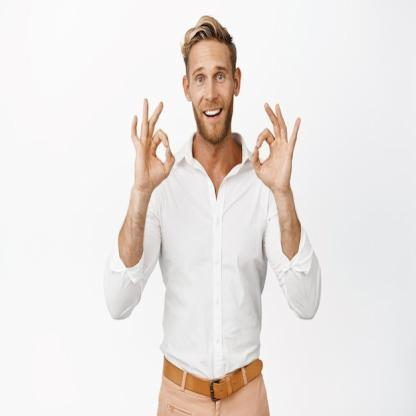ok: (248, 98, 303, 192), (129, 94, 177, 192)
